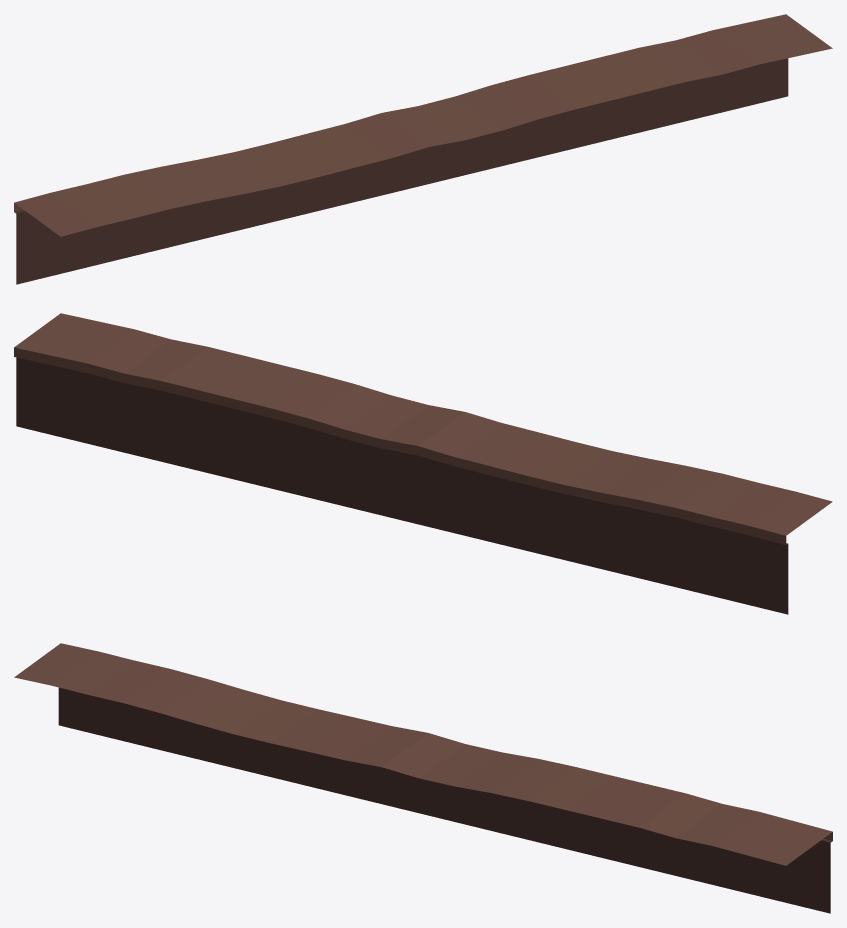
File: Ground_1.fbx
The picture shows the model from 3 angles, top to bottom: view 1: azimuth 30°, elevation 25°; view 2: azimuth 150°, elevation 25°; view 3: azimuth 330°, elevation 25°; orthographic projection.
Parts seen in each view (by area): view 1: Ground_1; view 2: Ground_1; view 3: Ground_1.
Boxes of the visible parts, x1,y1,x2,y2 form: Ground_1: (14,14,832,284); Ground_1: (14,313,832,614); Ground_1: (14,643,832,913).
Bounding box in the file's own units: 2000 × 205 × 210.
1 material, 1 textured.
